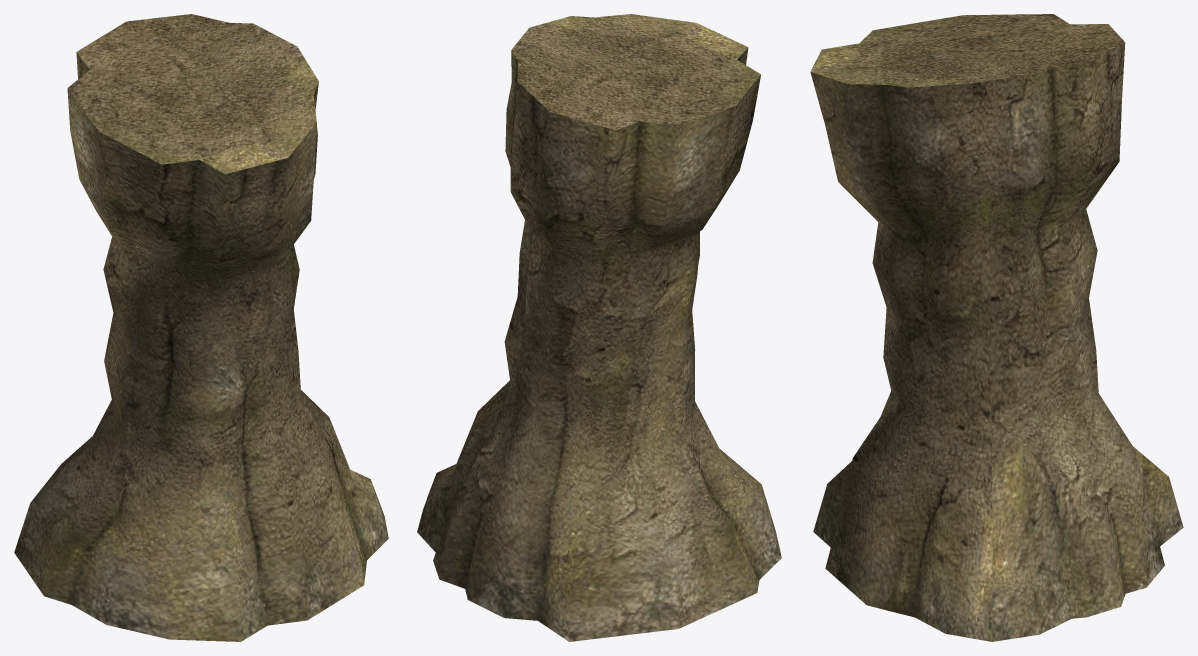
Rendered from anthill_05.fbx.
3 views of the same model, side by side, from view 1: azimuth 30°, elevation 25°; view 2: azimuth 150°, elevation 25°; view 3: azimuth 270°, elevation 25° (orthographic). The views are drawn at different scales.
Parts seen in each view (by area): view 1: objanthill_05; view 2: objanthill_05; view 3: objanthill_05.
Boxes of the visible parts, left/top/right/bottom form: objanthill_05: left=14, top=14, right=388, bottom=641; objanthill_05: left=417, top=14, right=781, bottom=641; objanthill_05: left=810, top=14, right=1183, bottom=641.
Size of the model in its own units: 14.86 by 21.43 by 13.94.
